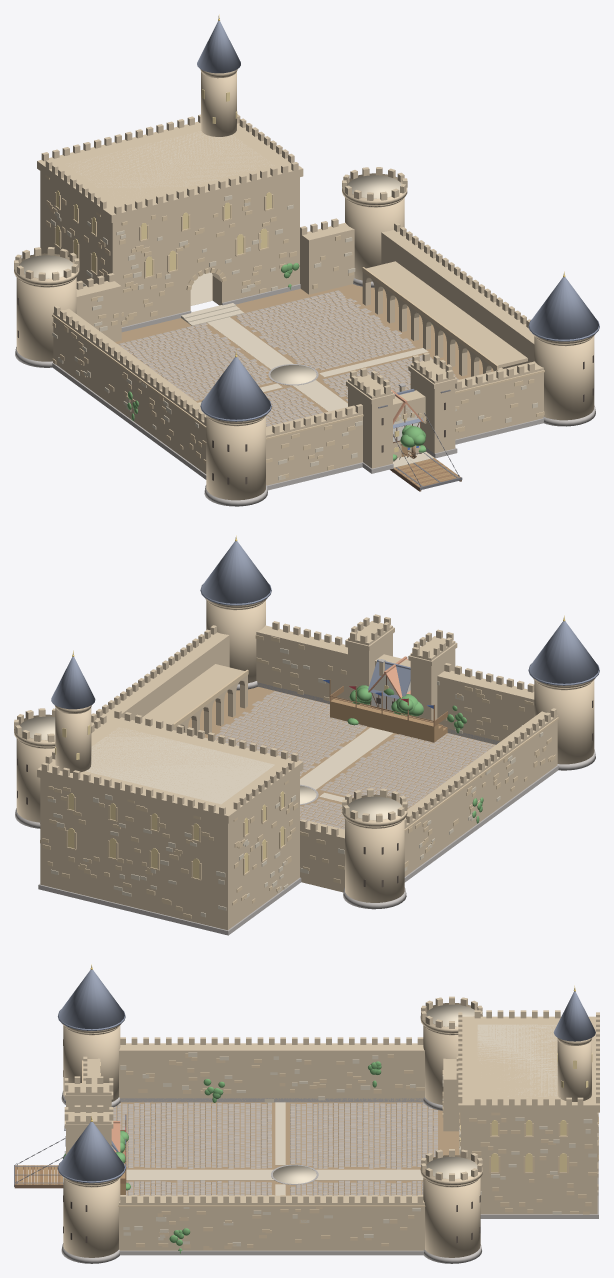
Rendered from medieval_props.fbx.
3 renders of one model, top to bottom at view 1: azimuth 30°, elevation 25°; view 2: azimuth 150°, elevation 25°; view 3: azimuth 270°, elevation 25°, orthographic. The views are drawn at different scales.
Parts seen in each view (by area): view 1: Wall__CastleStone, Keep__CastleStone, Cobbles__Cobble, Tower__CastleStone, Corbel__CastleStone, Floor__Dirt, Merlon__CastleStone, Roof__Slate, Gatehouse__CastleStone, Plinth__Stone, Deck__CastleStone, Block__Sandstone (+17 smaller); view 2: Keep__CastleStone, Wall__CastleStone, Cobbles__Cobble, Tower__CastleStone, Corbel__CastleStone, Merlon__CastleStone, Floor__Dirt, Roof__Flagstone, Roof__Slate, Block__Sandstone, Plinth__Stone, Gatehouse__CastleStone (+13 smaller); view 3: Wall__CastleStone, Cobbles__Cobble, Floor__Dirt, Keep__CastleStone, Tower__CastleStone, Corbel__CastleStone, Merlon__CastleStone, Plinth__Stone, Roof__Slate, Path__Flagstone, Block__Sandstone, Roof__Flagstone (+12 smaller).
Part boxes in pixels (x1,y1,x2,y2): Wall__CastleStone: (53,222,543,485); Keep__CastleStone: (40,123,299,327); Cobbles__Cobble: (118,290,458,426); Tower__CastleStone: (16,175,594,500); Corbel__CastleStone: (16,121,594,426); Floor__Dirt: (115,284,493,426); Merlon__CastleStone: (14,114,534,433); Roof__Slate: (201,277,598,419); Gatehouse__CastleStone: (348,359,455,468); Plinth__Stone: (15,278,595,506); Deck__CastleStone: (366,261,527,368); Block__Sandstone: (45,175,544,478); Keep__CastleStone: (40,734,299,930); Wall__CastleStone: (91,625,557,892); Cobbles__Cobble: (215,691,495,829); Tower__CastleStone: (16,600,594,902); Corbel__CastleStone: (17,600,594,828); Merlon__CastleStone: (14,614,556,836); Floor__Dirt: (188,687,495,890); Roof__Flagstone: (86,727,274,804); Roof__Slate: (201,541,598,683); Block__Sandstone: (40,635,555,918); Plinth__Stone: (15,681,595,935); Gatehouse__CastleStone: (348,621,455,721); Wall__CastleStone: (87,1043,459,1250); Cobbles__Cobble: (113,1102,437,1195); Floor__Dirt: (113,1102,458,1195); Keep__CastleStone: (460,1017,597,1214); Tower__CastleStone: (63,1004,480,1257); Corbel__CastleStone: (64,1016,599,1187); Merlon__CastleStone: (64,996,599,1202); Plinth__Stone: (61,1091,598,1263); Roof__Slate: (58,969,124,1181); Path__Flagstone: (126,1102,423,1195); Block__Sandstone: (100,1053,598,1250); Roof__Flagstone: (477,1024,558,1097).
Bounding box in the file's own units: 74.9 × 47.1 × 103.
